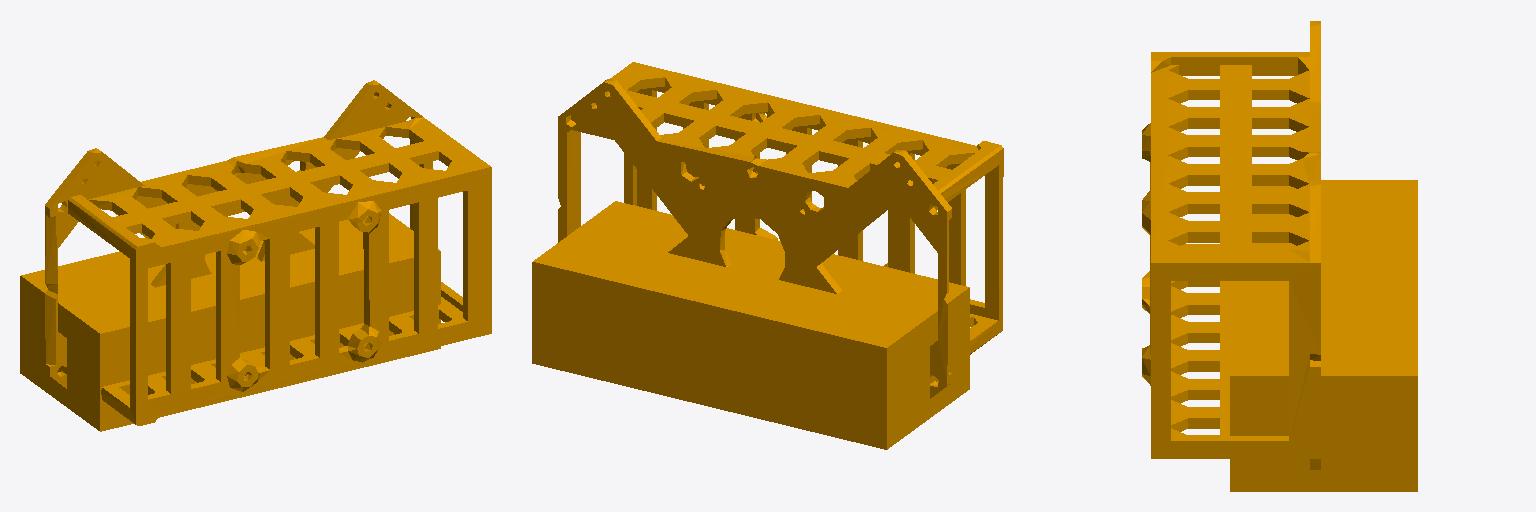
robot.urdf — robot:
<?xml version="1.0" ?>
<robot name="">
  <joint name="prop_0_joint" type="revolute">
    <parent link="base_link"/>
    <child link="prop_0_link"/>
    <origin xyz="0.21213 -0.21213  0.01" rpy="0 0 0"/>
    <axis xyz="0 0 1"/>
    <limit lower="-1e+16" upper="1e+16" effort="0.0" velocity="0.0"/>
  </joint>
  <joint name="prop_1_joint" type="revolute">
    <parent link="base_link"/>
    <child link="prop_1_link"/>
    <origin xyz="-0.21213  0.21213  0.01" rpy="0 0 0"/>
    <axis xyz="0 0 1"/>
    <limit lower="-1e+16" upper="1e+16" effort="0.0" velocity="0.0"/>
  </joint>
  <joint name="prop_2_joint" type="revolute">
    <parent link="base_link"/>
    <child link="prop_2_link"/>
    <origin xyz="0.21213 0.21213 0.01" rpy="0 0 0"/>
    <axis xyz="0 0 1"/>
    <limit lower="-1e+16" upper="1e+16" effort="0.0" velocity="0.0"/>
  </joint>
  <joint name="prop_3_joint" type="revolute">
    <parent link="base_link"/>
    <child link="prop_3_link"/>
    <origin xyz="-0.21213 -0.21213  0.01" rpy="0 0 0"/>
    <axis xyz="0 0 1"/>
    <limit lower="-1e+16" upper="1e+16" effort="0.0" velocity="0.0"/>
  </joint>
  <link name="base_link">
    <inertial>
      <mass value="3.5"/>
      <origin xyz="0 0 0" rpy="0 0 0"/>
      <inertia ixx="0.05541666666666667" ixy="0" ixz="0" iyy="0.05541666666666667" iyz="0" izz="0.109375"/>
    </inertial>
    <collision name="base_link_collision">
      <origin xyz="0     0    -0.075" rpy="0 0 0"/>
      <geometry>
        <cylinder radius="0.325" length="0.15"/>
      </geometry>
    </collision>
    <collision name="front_right_leg_link_collision">
      <origin xyz="0.17677 -0.17677 -0.135" rpy="0       0      -0.78539"/>
      <geometry>
        <cylinder radius="0.012" length="0.24"/>
      </geometry>
    </collision>
    <collision name="front_left_leg_link_collision">
      <origin xyz="0.17677  0.17677 -0.135" rpy="0      0      0.78539"/>
      <geometry>
        <cylinder radius="0.012" length="0.24"/>
      </geometry>
    </collision>
    <collision name="rear_left_leg_link_collision">
      <origin xyz="-0.17677  0.17677 -0.135" rpy="0      0      2.35619"/>
      <geometry>
        <cylinder radius="0.012" length="0.24"/>
      </geometry>
    </collision>
    <collision name="rear_right_leg_link_collision">
      <origin xyz="-0.17677 -0.17677 -0.135" rpy="0       0      -2.35619"/>
      <geometry>
        <cylinder radius="0.012" length="0.24"/>
      </geometry>
    </collision>
    <visual name="bottom_board_visual">
      <origin xyz="0     0    -0.255" rpy="0 0 0"/>
      <geometry>
        <mesh filename="../meshes/tarot/t650/tarot_t650_bottom_board.dae" scale="1 1 1"/>
      </geometry>
    </visual>
    <visual name="top_board_visual">
      <origin xyz="0     0    -0.255" rpy="0 0 0"/>
      <geometry>
        <mesh filename="../meshes/tarot/t650/tarot_t650_top_board.dae" scale="1 1 1"/>
      </geometry>
    </visual>
    <visual name="front_right_arm_visual">
      <origin xyz="0     0    -0.255" rpy="0       0      -0.78539"/>
      <geometry>
        <mesh filename="../meshes/tarot/t650/tarot_t650_arm_black.dae" scale="1 1 1"/>
      </geometry>
    </visual>
    <visual name="back_right_arm_visual">
      <origin xyz="0     0    -0.255" rpy="0       0      -2.35619"/>
      <geometry>
        <mesh filename="../meshes/tarot/t650/tarot_t650_arm_red.dae" scale="1 1 1"/>
      </geometry>
    </visual>
    <visual name="front_left_arm_visual">
      <origin xyz="0     0    -0.255" rpy="0      0      0.78539"/>
      <geometry>
        <mesh filename="../meshes/tarot/t650/tarot_t650_arm_black.dae" scale="1 1 1"/>
      </geometry>
    </visual>
    <visual name="back_left_arm_visual">
      <origin xyz="0     0    -0.255" rpy="0      0      2.35619"/>
      <geometry>
        <mesh filename="../meshes/tarot/t650/tarot_t650_arm_red.dae" scale="1 1 1"/>
      </geometry>
    </visual>
    <visual name="NUC_visual">
      <origin xyz="0.002  0    -0.255" rpy="0 0 0"/>
      <geometry>
        <mesh filename="../meshes/tarot/t650/tarot_t650_nuc.dae" scale="1 1 1"/>
      </geometry>
    </visual>
    <visual name="front_right_leg_visual">
      <origin xyz="0.17677 -0.17677 -0.135" rpy="0       0      -0.78539"/>
      <geometry>
        <mesh filename="../meshes/tarot/t650/tarot_t650_leg.dae" scale="1 1 1"/>
      </geometry>
    </visual>
    <visual name="front_left_leg_visual">
      <origin xyz="0.17677  0.17677 -0.135" rpy="0      0      0.78539"/>
      <geometry>
        <mesh filename="../meshes/tarot/t650/tarot_t650_leg.dae" scale="1 1 1"/>
      </geometry>
    </visual>
    <visual name="rear_left_leg_visual">
      <origin xyz="-0.17677  0.17677 -0.135" rpy="0      0      2.35619"/>
      <geometry>
        <mesh filename="../meshes/tarot/t650/tarot_t650_leg.dae" scale="1 1 1"/>
      </geometry>
    </visual>
    <visual name="rear_right_leg_visual">
      <origin xyz="-0.17677 -0.17677 -0.135" rpy="0       0      -2.35619"/>
      <geometry>
        <mesh filename="../meshes/tarot/t650/tarot_t650_leg.dae" scale="1 1 1"/>
      </geometry>
    </visual>
    <visual name="front_right_motor_visual">
      <origin xyz="0.21213 -0.21213 -0.021" rpy="0 0 0"/>
      <geometry>
        <mesh filename="../meshes/tarot/t650/tarot_t650_motor_black.dae" scale="1 1 1"/>
      </geometry>
    </visual>
    <visual name="back_right_rotor_visual">
      <origin xyz="-0.21213 -0.21213 -0.021" rpy="0 0 0"/>
      <geometry>
        <mesh filename="../meshes/tarot/t650/tarot_t650_motor_orange.dae" scale="1 1 1"/>
      </geometry>
    </visual>
    <visual name="front_left_rotor_visual">
      <origin xyz="0.21213  0.21213 -0.021" rpy="0 0 0"/>
      <geometry>
        <mesh filename="../meshes/tarot/t650/tarot_t650_motor_black.dae" scale="1 1 1"/>
      </geometry>
    </visual>
    <visual name="back_left_rotor_visual">
      <origin xyz="-0.21213  0.21213 -0.021" rpy="0 0 0"/>
      <geometry>
        <mesh filename="../meshes/tarot/t650/tarot_t650_motor_orange.dae" scale="1 1 1"/>
      </geometry>
    </visual>
    <visual name="battery_mount_visual">
      <origin xyz="0       0      -0.03599" rpy="0 0 0"/>
      <geometry>
        <mesh filename="../meshes/tarot/t650/tarot_t650_battery_mount.obj" scale="0.001 0.001 0.001"/>
      </geometry>
    </visual>
    <visual name="battery_visual">
      <origin xyz="0      0     -0.0675" rpy="0 0 0"/>
      <geometry>
        <box size="0.16 0.065 0.044"/>
      </geometry>
    </visual>
  </link>
  <link name="prop_0_link">
    <inertial>
      <mass value="0.005"/>
      <origin xyz="0 0 0" rpy="0 0 0"/>
      <inertia ixx="0.0001" ixy="0" ixz="0" iyy="0.0001" iyz="0" izz="0.0001"/>
    </inertial>
    <collision name="prop_0_link_collision">
      <origin xyz="0 0 0" rpy="3.14159 1.57079 3.14159"/>
      <geometry>
        <cylinder radius="0.01" length="0.39"/>
      </geometry>
    </collision>
    <visual name="visual">
      <origin xyz="0 0 0" rpy="0 0 0"/>
      <geometry>
        <mesh filename="../meshes/tarot/t650/tarot_t650_prop_low_poly.dae" scale="1 1 1"/>
      </geometry>
    </visual>
  </link>
  <link name="prop_1_link">
    <inertial>
      <mass value="0.005"/>
      <origin xyz="0 0 0" rpy="0 0 0"/>
      <inertia ixx="0.0001" ixy="0" ixz="0" iyy="0.0001" iyz="0" izz="0.0001"/>
    </inertial>
    <collision name="prop_1_link_collision">
      <origin xyz="0 0 0" rpy="3.14159 1.57079 3.14159"/>
      <geometry>
        <cylinder radius="0.01" length="0.39"/>
      </geometry>
    </collision>
    <visual name="visual">
      <origin xyz="0 0 0" rpy="0 0 0"/>
      <geometry>
        <mesh filename="../meshes/tarot/t650/tarot_t650_prop_low_poly.dae" scale="1 1 1"/>
      </geometry>
    </visual>
  </link>
  <link name="prop_2_link">
    <inertial>
      <mass value="0.005"/>
      <origin xyz="0 0 0" rpy="0 0 0"/>
      <inertia ixx="0.0001" ixy="0" ixz="0" iyy="0.0001" iyz="0" izz="0.0001"/>
    </inertial>
    <collision name="prop_2_link_collision">
      <origin xyz="0 0 0" rpy="3.14159 1.57079 3.14159"/>
      <geometry>
        <cylinder radius="0.01" length="0.39"/>
      </geometry>
    </collision>
    <visual name="visual">
      <origin xyz="0 0 0" rpy="0 0 0"/>
      <geometry>
        <mesh filename="../meshes/tarot/t650/tarot_t650_prop_low_poly.dae" scale="-1 1 1"/>
      </geometry>
    </visual>
  </link>
  <link name="prop_3_link">
    <inertial>
      <mass value="0.005"/>
      <origin xyz="0 0 0" rpy="0 0 0"/>
      <inertia ixx="0.0001" ixy="0" ixz="0" iyy="0.0001" iyz="0" izz="0.0001"/>
    </inertial>
    <collision name="prop_3_link_collision">
      <origin xyz="0 0 0" rpy="3.14159 1.57079 3.14159"/>
      <geometry>
        <cylinder radius="0.01" length="0.39"/>
      </geometry>
    </collision>
    <visual name="visual">
      <origin xyz="0 0 0" rpy="0 0 0"/>
      <geometry>
        <mesh filename="../meshes/tarot/t650/tarot_t650_prop_low_poly.dae" scale="-1 1 1"/>
      </geometry>
    </visual>
  </link>
</robot>

--- Facts derived from the render (not from the file) ---
3 views of the same robot in one strip: view 1: azimuth 30°, elevation 25°; view 2: azimuth 150°, elevation 25°; view 3: azimuth 270°, elevation 25° (orthographic).
Robot: robot — 5 links, 4 joints (4 revolute); root link base_link; default pose: all joints at 0.
Links seen in each view (by area): view 1: base_link; view 2: base_link; view 3: base_link.
Boxes of the visible links, x1,y1,x2,y2 form: base_link: (20,80,491,431); base_link: (532,62,1003,449); base_link: (1142,21,1417,491).
Bounding box of the posed robot: 0.1761 × 0.0955 × 0.1151 m (x, y, z).
Meshes: 10 distinct files referenced, 1 mesh visuals loaded (1 OBJ); not drawn: 19 (reference not matched to a file when rendering).